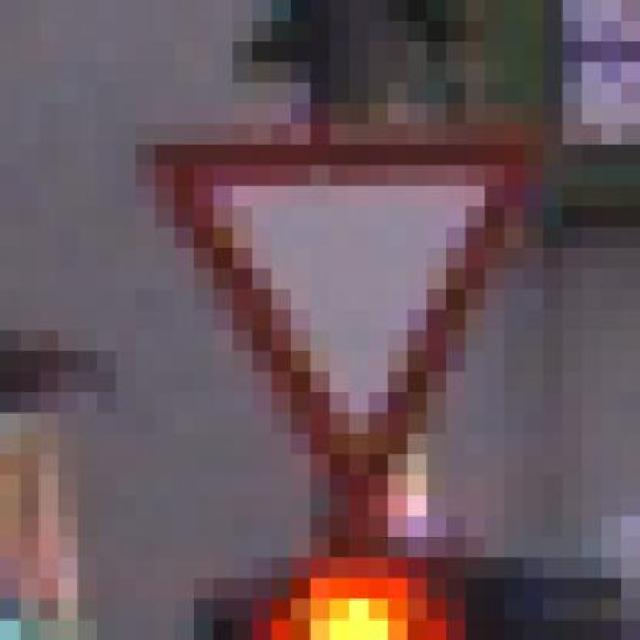Give Way: (116, 103, 562, 537)
